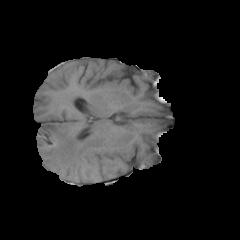glioma: (38, 123, 122, 180)
